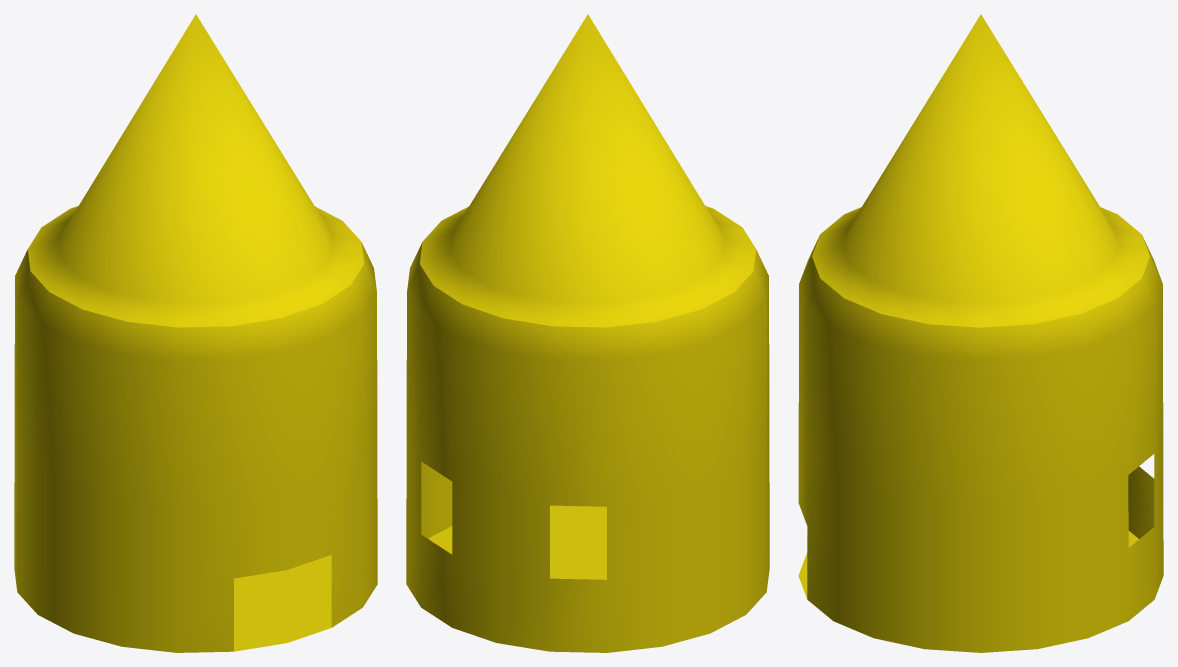
3 views of the same model, side by side, from view 1: azimuth 30°, elevation 25°; view 2: azimuth 150°, elevation 25°; view 3: azimuth 270°, elevation 25° (orthographic).
Parts seen in each view (by area): view 1: pCylinder1; view 2: pCylinder1; view 3: pCylinder1.
Boxes of the visible parts, left/top/right/bottom form: pCylinder1: left=14, top=14, right=377, bottom=652; pCylinder1: left=406, top=14, right=769, bottom=652; pCylinder1: left=798, top=14, right=1163, bottom=652.
Size of the model in its own units: 4.4 by 7.46 by 4.4.
